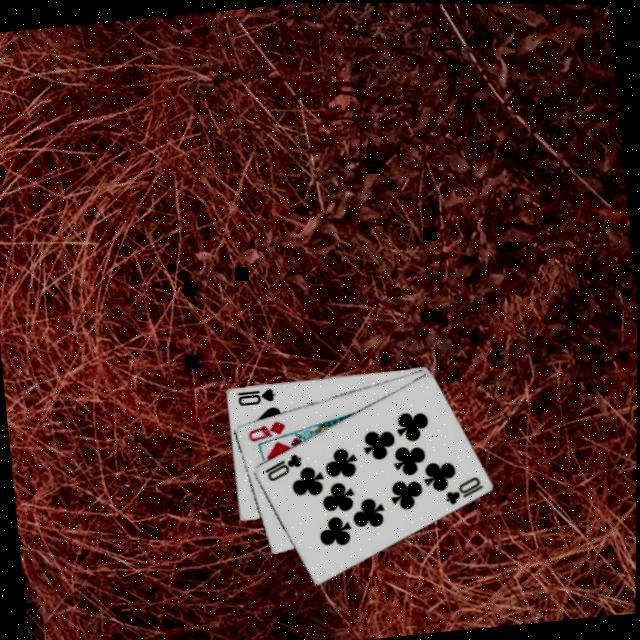10C: (438, 471, 485, 506), (258, 448, 305, 482)
10S: (232, 382, 276, 406)
QD: (241, 414, 287, 442)
